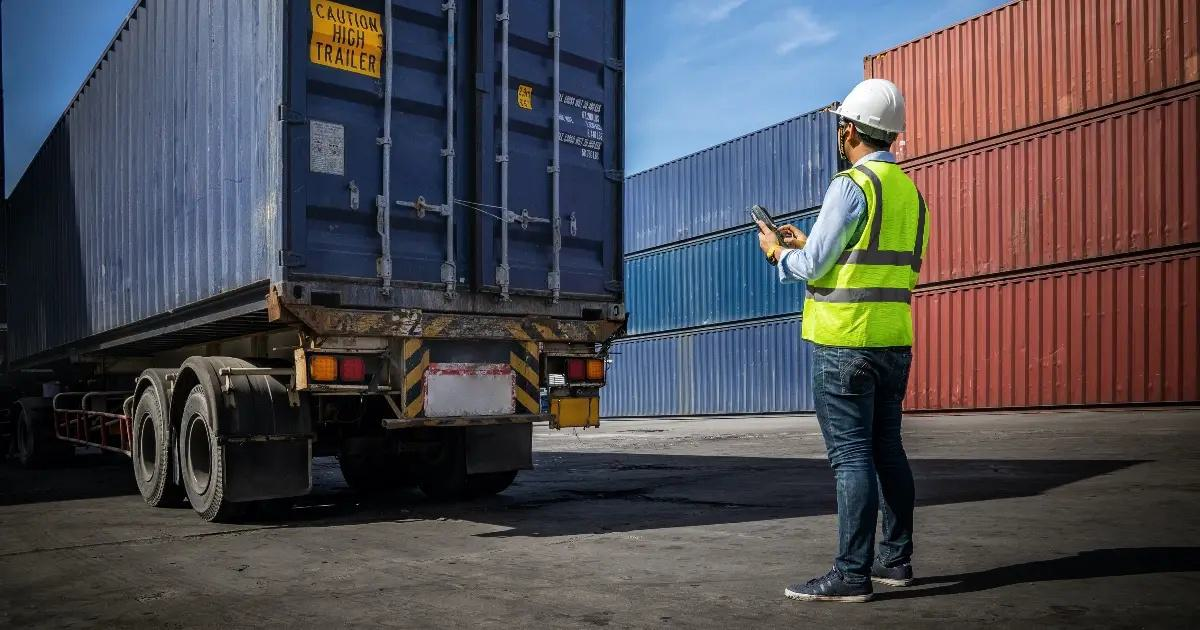person: (759, 79, 928, 601)
shipping container: (0, 0, 622, 518), (865, 0, 1199, 410), (867, 0, 1199, 410), (602, 114, 825, 414)
